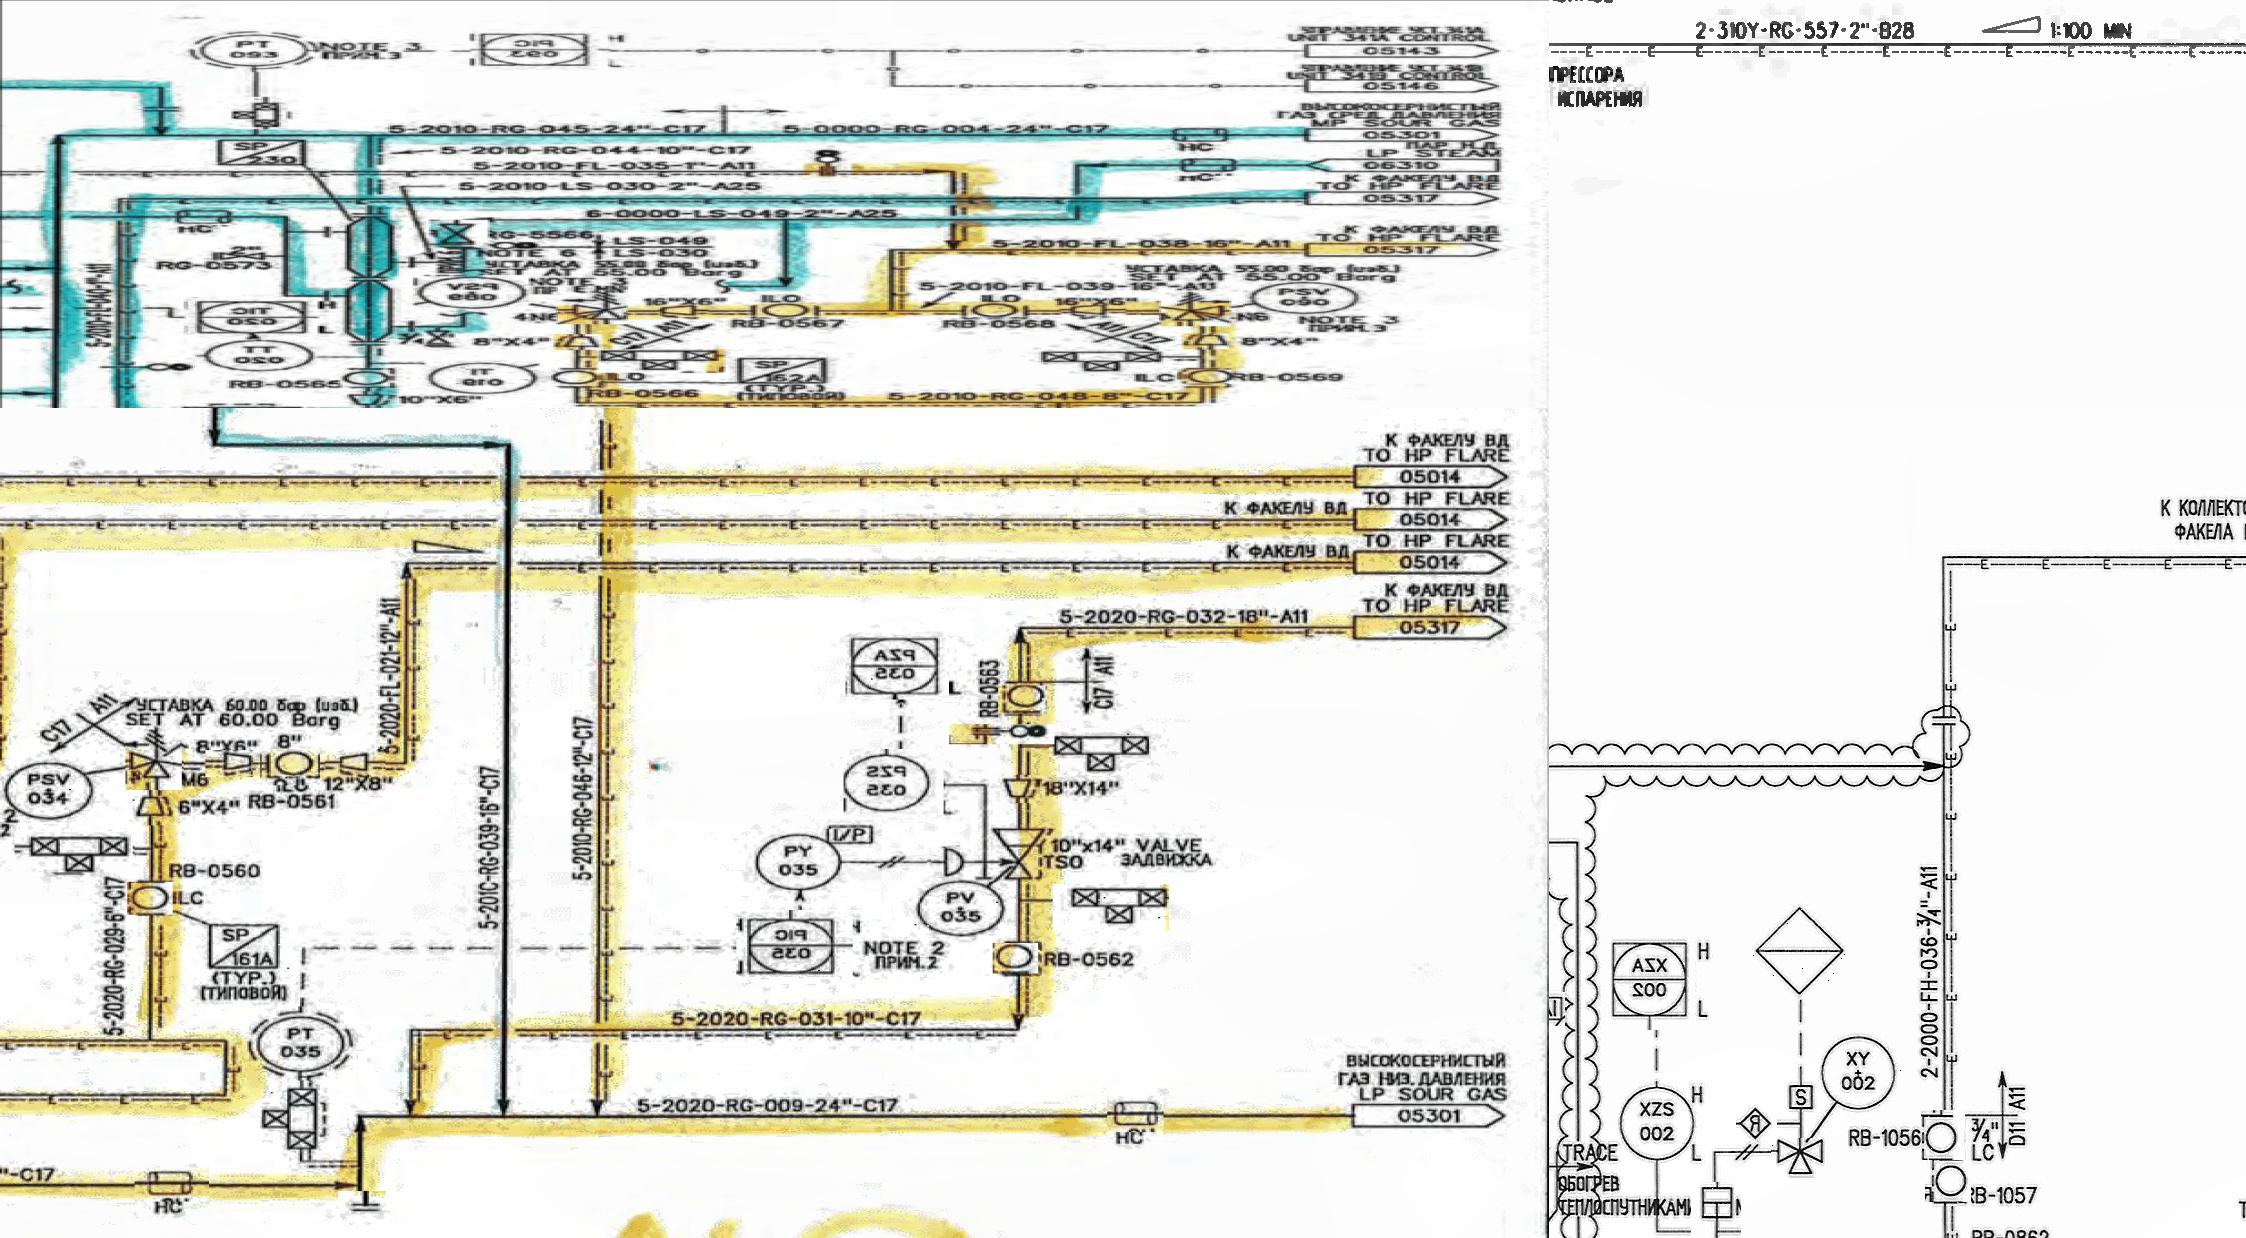2 WAY VALVE: (254, 674, 337, 750), (1053, 477, 1169, 524), (17, 424, 137, 467), (1033, 348, 1167, 372), (599, 349, 728, 374), (233, 96, 290, 128)
3 WAY GENERAL VALVE: (1772, 1139, 1832, 1179)
ANGLE RELIEF VALVE: (1160, 288, 1233, 326), (556, 285, 626, 325)
CONCENTRIC REDUCER: (1061, 305, 1126, 317), (1184, 334, 1231, 351), (556, 334, 605, 349), (349, 390, 393, 406), (660, 305, 710, 317), (130, 409, 178, 418)
DCS ACCESSIBLE: (737, 503, 856, 573), (1611, 935, 1694, 1031), (472, 29, 613, 69), (186, 297, 322, 335)
DUPLEX RECEPTACLE: (134, 761, 209, 796), (1108, 688, 1164, 726), (1164, 125, 1256, 143), (1170, 156, 1239, 175), (168, 207, 241, 226)
END CAP: (929, 435, 972, 470), (931, 441, 974, 471)
END FLANGED: (340, 784, 389, 810)
FIELD INSTRUMENT: (247, 599, 361, 672), (1816, 1031, 1903, 1111), (183, 26, 326, 73), (1617, 1082, 1699, 1163), (916, 474, 1015, 531), (756, 421, 846, 482), (1245, 282, 1370, 316), (427, 360, 542, 395), (195, 340, 315, 374), (414, 274, 533, 308), (1921, 1110, 1966, 1160), (1924, 1160, 1972, 1201), (128, 474, 177, 506), (995, 537, 1042, 567), (754, 303, 815, 322), (340, 367, 401, 386), (547, 370, 605, 387), (971, 302, 1021, 320), (1179, 370, 1236, 384)
GATE VALVE: (431, 220, 492, 249), (201, 250, 282, 262), (424, 328, 459, 348)
HARDWIRED INTERLOCK FIELD: (1737, 1102, 1778, 1140)
HARDWIRED INTERLOCK PRIMARY.: (1751, 896, 1848, 999)
IP CONVERTER: (1550, 993, 1566, 1026)
PISTON ACTUATED VALVE: (1691, 1182, 1742, 1238)
SPECIAL PIPING ITEM: (203, 509, 291, 573), (206, 136, 320, 168), (728, 355, 835, 386)
SPECTACLE BLIND OPEN: (805, 149, 855, 178)
SPEED FLOW METER: (1786, 1082, 1816, 1115)
